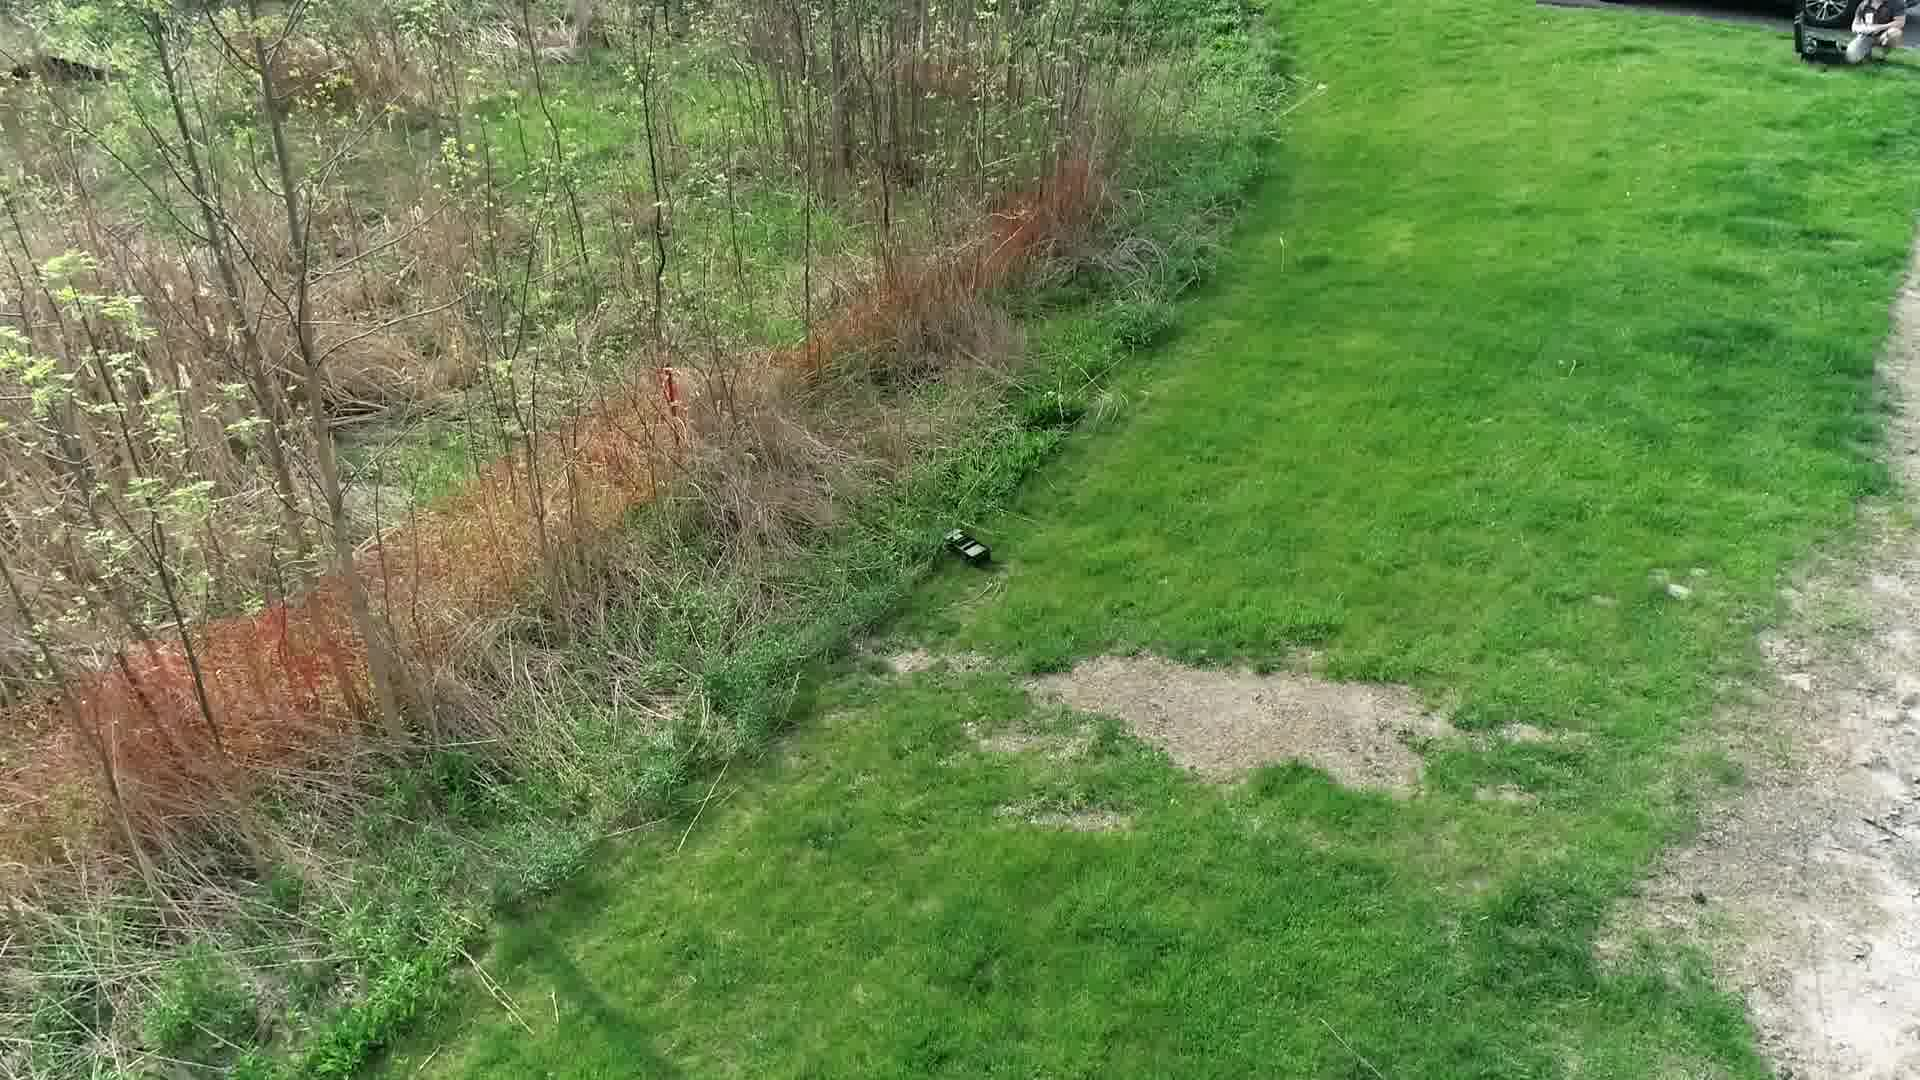transporter9: (942, 527, 994, 567)
